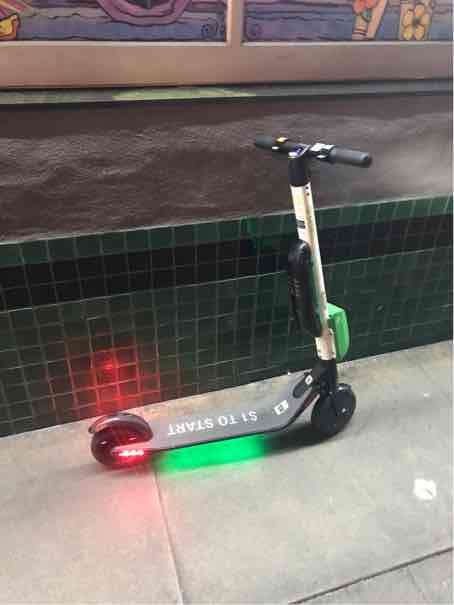scooter: (77, 127, 372, 477)
